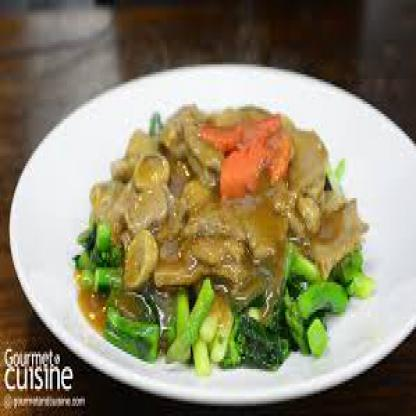Laadna: (53, 74, 391, 374)
